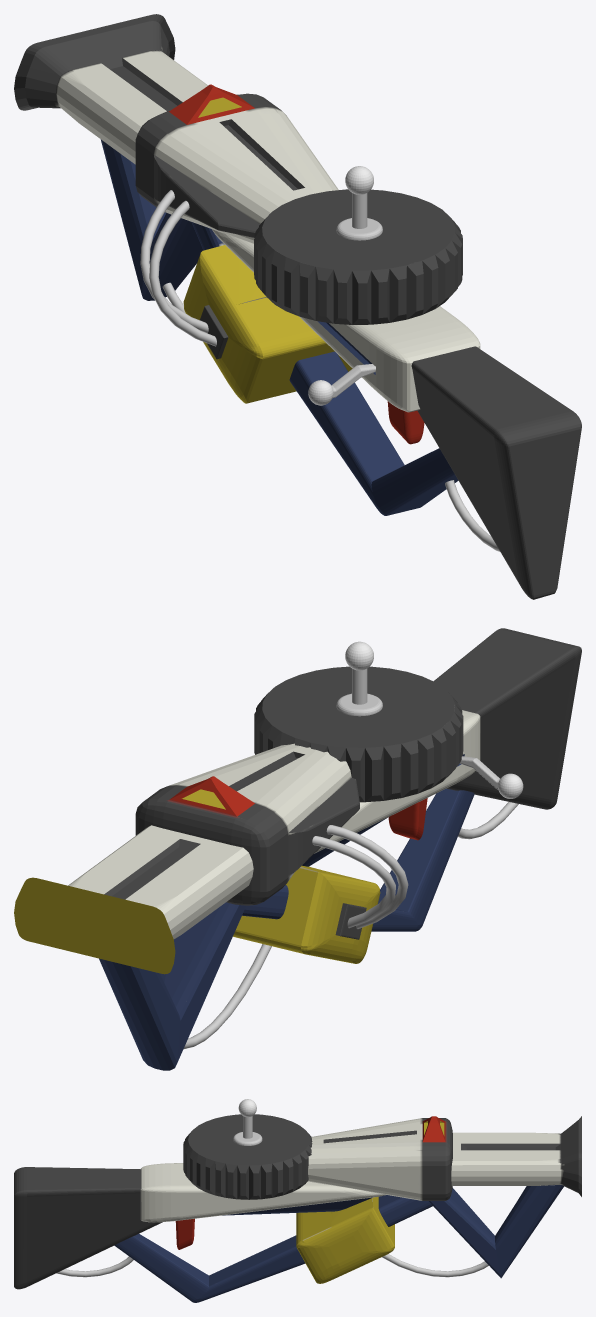
The model's file is Arma.fbx.
3 renders of one model, top to bottom at view 1: azimuth 30°, elevation 25°; view 2: azimuth 150°, elevation 25°; view 3: azimuth 270°, elevation 25°, orthographic. The views are drawn at different scales.
Visible parts, largest first — view 1: Cube.001, Cylinder; view 2: Cube.001, Cylinder; view 3: Cube.001, Cylinder.
Boxes of the visible parts, box(x1,y1,x2,y2) form: Cube.001: box(14, 14, 581, 599); Cylinder: box(254, 189, 462, 324); Cube.001: box(14, 628, 581, 1070); Cylinder: box(254, 666, 463, 802); Cube.001: box(14, 1099, 581, 1302); Cylinder: box(183, 1114, 312, 1199).
Bounding box in the file's own units: 130 × 179 × 466.
